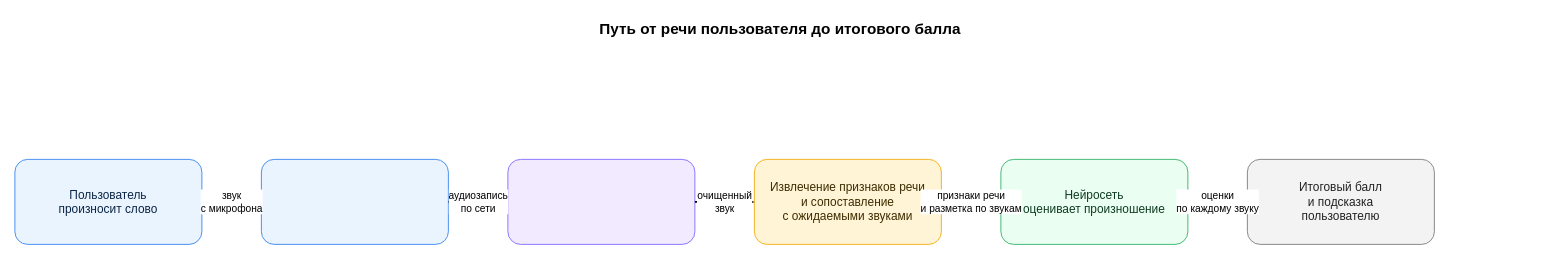
Some shapes in this 1560 by 259 pixel diagram are drawn without their labels. Here are the shapes that lost their labels. From the top down, the centre of each, then its label:
point 354,201: Запись звука в браузере
point 601,201: Подготовка звука на сервере
